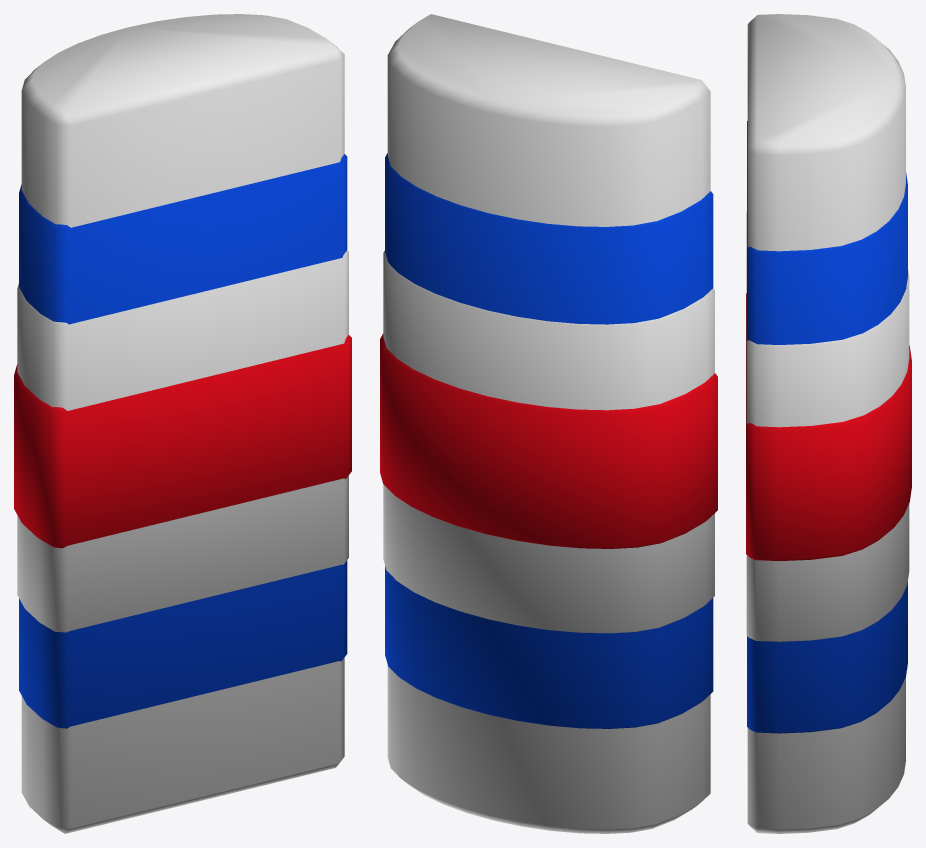
File: Target Right Hook.fbx
The picture shows the model from 3 angles, left to right: view 1: azimuth 30°, elevation 25°; view 2: azimuth 150°, elevation 25°; view 3: azimuth 270°, elevation 25°; orthographic projection. The views are drawn at different scales.
Visible parts, largest first — view 1: Cylinder, Cylinder.001, Cylinder.002, Cylinder.003; view 2: Cylinder, Cylinder.001, Cylinder.002, Cylinder.003; view 3: Cylinder, Cylinder.001, Cylinder.002, Cylinder.003.
Part boxes in pixels (box(x1,y1,x2,y2)): Cylinder: box(21, 14, 344, 833); Cylinder.001: box(19, 154, 347, 728); Cylinder.002: box(17, 250, 348, 632); Cylinder.003: box(14, 335, 351, 548); Cylinder: box(387, 14, 710, 833); Cylinder.001: box(385, 153, 713, 728); Cylinder.002: box(383, 250, 714, 633); Cylinder.003: box(380, 333, 717, 548); Cylinder: box(747, 14, 905, 833); Cylinder.001: box(747, 121, 907, 733); Cylinder.002: box(746, 212, 909, 641); Cylinder.003: box(746, 293, 911, 560).
Bounding box in the file's own units: 209 × 471 × 102.
